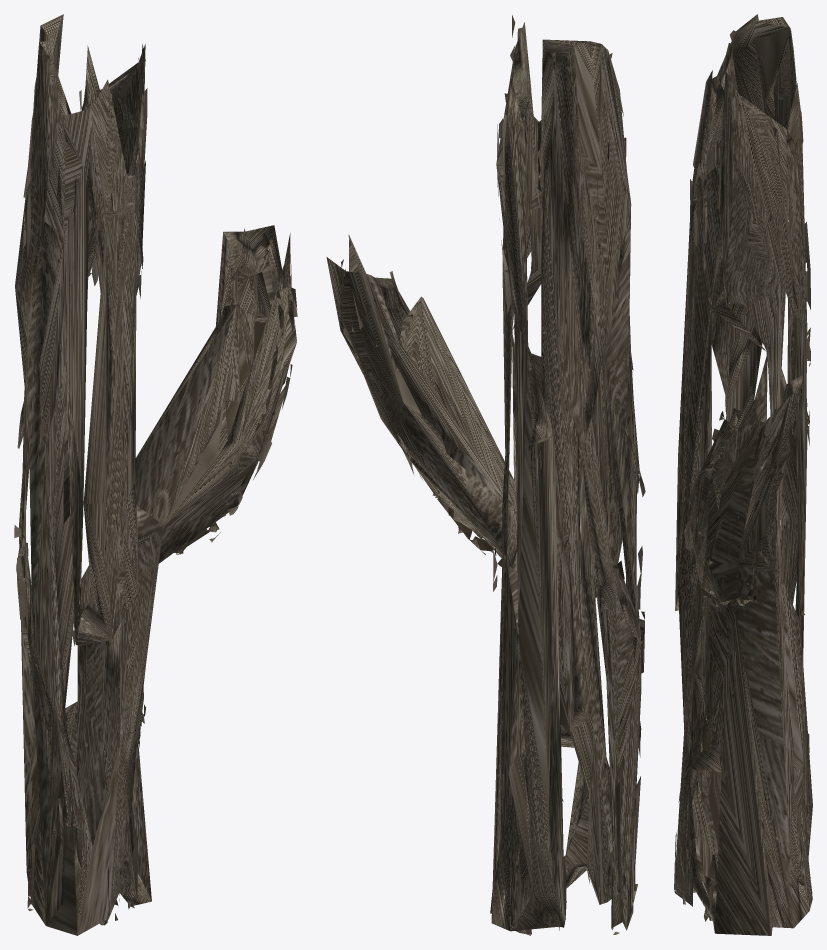
Rendered from saguaro-skeleton.glb.
3 renders of one model, left to right at view 1: azimuth 30°, elevation 25°; view 2: azimuth 150°, elevation 25°; view 3: azimuth 270°, elevation 25°, orthographic. The views are drawn at different scales.
Visible parts, largest first — view 1: world; view 2: world; view 3: world.
Boxes of the visible parts, x1=… form: world: x1=14, y1=14, x2=297, y2=935; world: x1=326, y1=15, x2=645, y2=935; world: x1=674, y1=14, x2=812, y2=935.
Size of the model in its own units: 0.331 by 0.9996 by 0.1423.
Materials: 1 (1 with a texture image).
